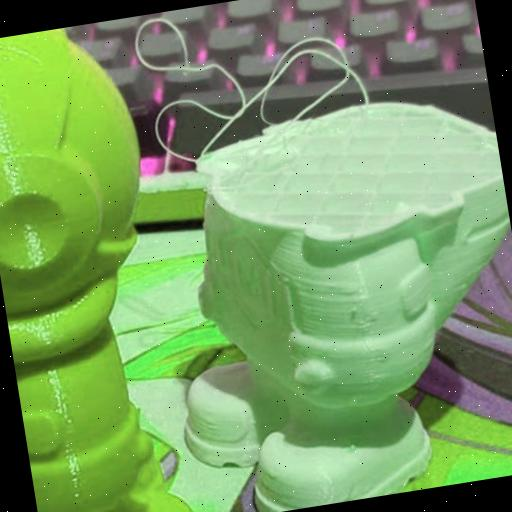spaghetti: (129, 0, 377, 173)
